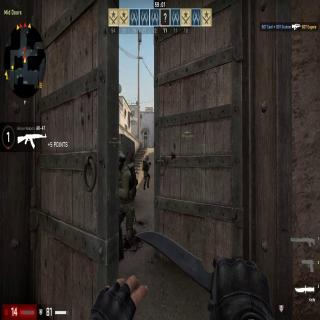CT-Body: (118, 151, 139, 262), (142, 155, 151, 190)
CT-Head: (119, 152, 125, 168), (145, 156, 150, 161)
